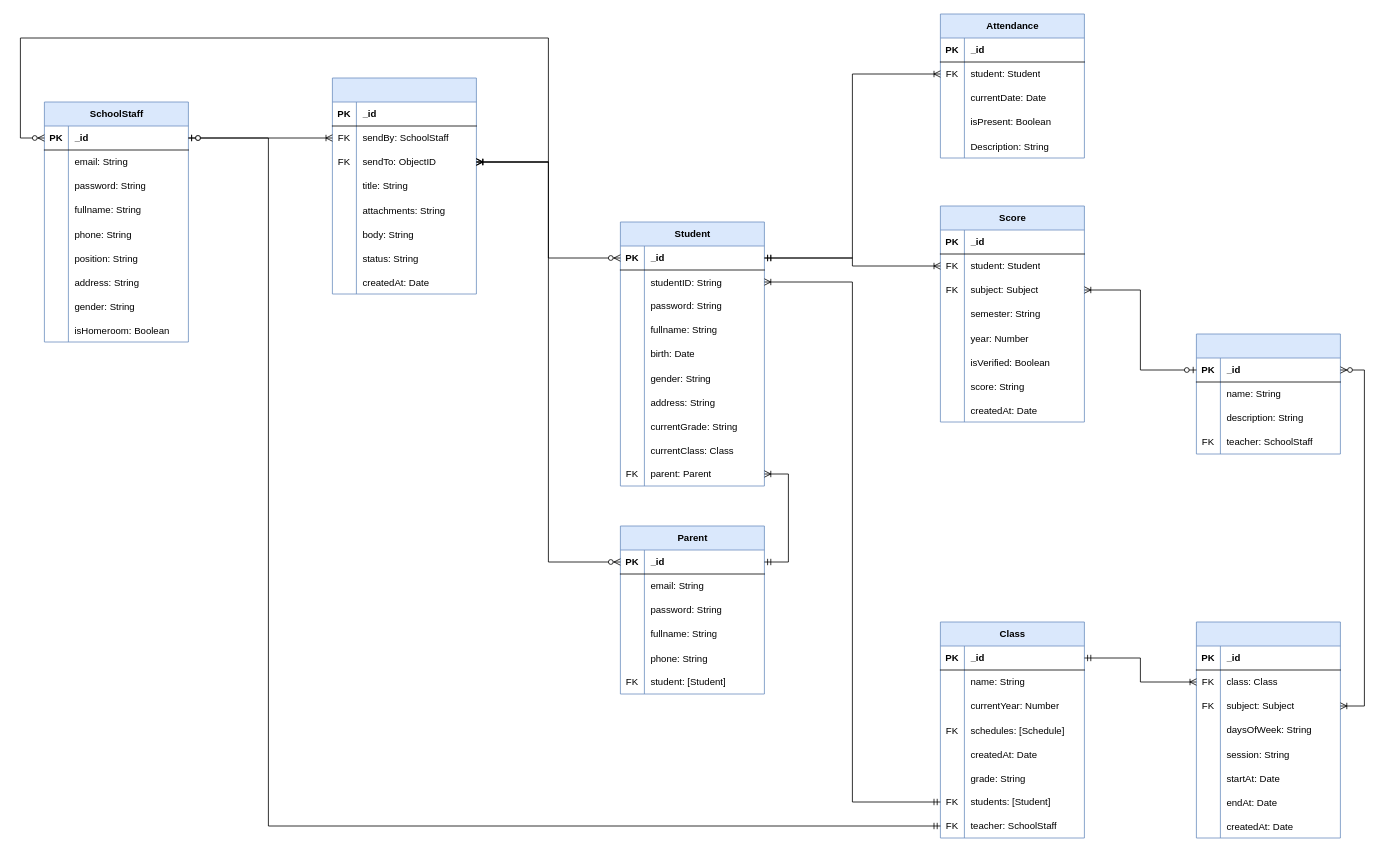
Some shapes in this 1386 by 852 pixel diagram are drawn without their labels. The shapes that lost their labels are listed below. From the top down, each one's box as (x1, y1, x2, y2) in pixels, then its label:
(332, 77, 476, 294): Announcement
(1196, 333, 1340, 454): Subject
(1196, 621, 1340, 838): Schedule
